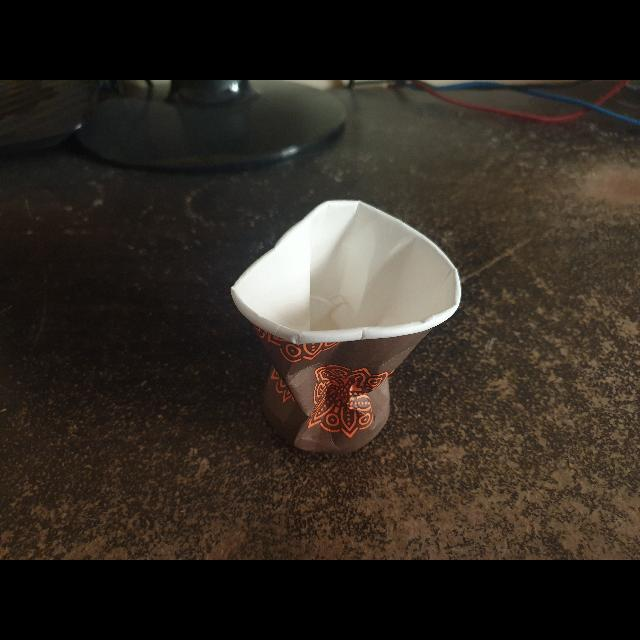trash: (228, 195, 474, 460)
